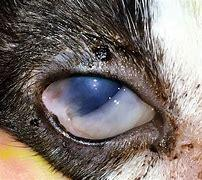eye_infection: (38, 71, 159, 143)
